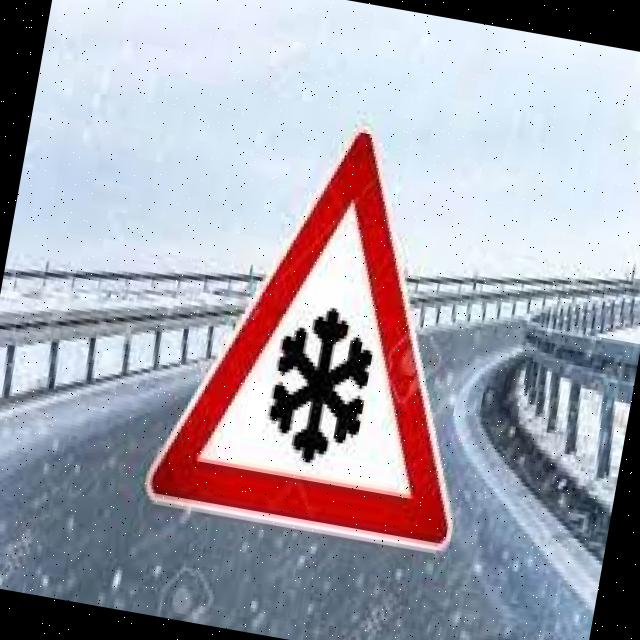snow_warning: (139, 98, 521, 564)
